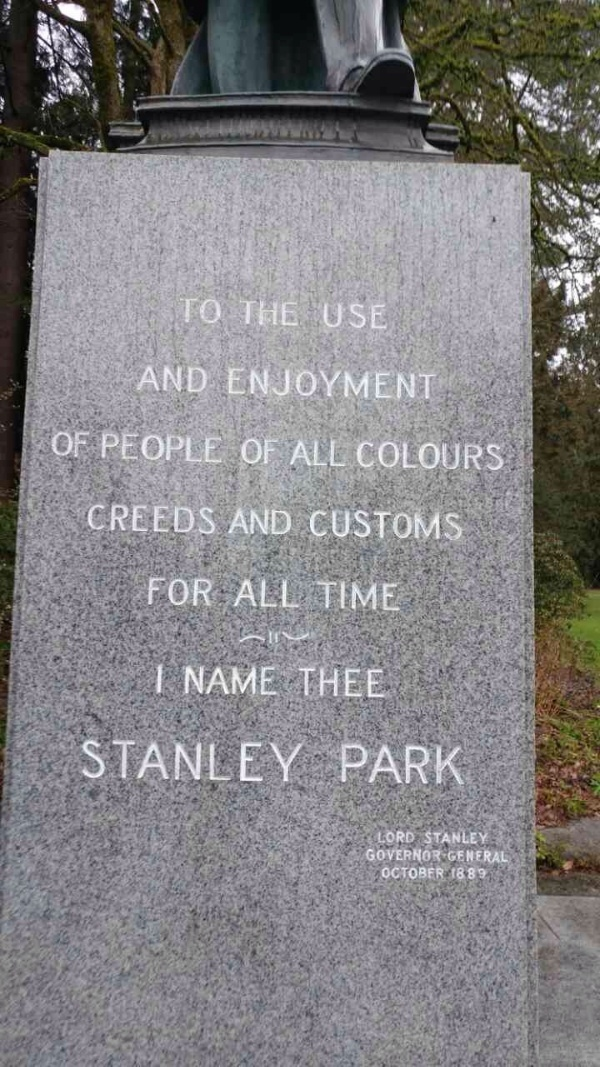text: (81, 738, 96, 783), (97, 738, 112, 783), (113, 738, 128, 783), (129, 738, 144, 783), (145, 738, 160, 783), (161, 738, 176, 783), (177, 738, 192, 783), (193, 738, 208, 783), (209, 738, 224, 783), (225, 738, 240, 783), (241, 738, 256, 783), (257, 738, 272, 783), (273, 738, 288, 783), (289, 738, 304, 783), (353, 742, 368, 787), (369, 742, 384, 787), (385, 742, 400, 787), (401, 742, 416, 787), (417, 742, 432, 787), (433, 742, 448, 787), (449, 742, 464, 787), (209, 432, 225, 466), (449, 508, 465, 542), (340, 742, 352, 787), (241, 366, 256, 401), (257, 366, 272, 401), (273, 366, 288, 401), (289, 366, 304, 401), (305, 366, 320, 401), (321, 366, 336, 401), (337, 366, 352, 401), (353, 366, 368, 401), (369, 366, 384, 401), (385, 366, 400, 401), (401, 366, 416, 401), (417, 366, 432, 401), (113, 432, 128, 466), (129, 432, 144, 466), (145, 432, 160, 466), (161, 432, 176, 466), (177, 432, 192, 466), (193, 432, 208, 466), (321, 508, 336, 542), (337, 508, 352, 542), (353, 508, 368, 542), (369, 508, 384, 542), (385, 508, 400, 542), (401, 508, 416, 542), (417, 508, 432, 542), (433, 508, 448, 542), (321, 579, 336, 613), (337, 579, 352, 613), (353, 579, 368, 613), (369, 579, 384, 613), (385, 579, 400, 613), (193, 664, 208, 698), (209, 664, 224, 698), (225, 664, 240, 698), (241, 664, 256, 698), (257, 664, 272, 698), (97, 503, 112, 536), (113, 503, 128, 536), (129, 503, 144, 536), (145, 503, 160, 536), (161, 503, 176, 536), (177, 503, 192, 536), (193, 503, 208, 536), (241, 577, 256, 610), (257, 577, 272, 610), (273, 577, 288, 610), (305, 667, 320, 699), (321, 667, 336, 699), (337, 667, 352, 699), (353, 667, 368, 699), (369, 667, 384, 699), (241, 507, 256, 538), (257, 507, 272, 538), (273, 507, 288, 538), (161, 577, 176, 608), (177, 577, 192, 608), (193, 577, 208, 608), (193, 365, 209, 394), (227, 366, 240, 401), (241, 298, 256, 328), (257, 298, 272, 328), (273, 298, 288, 328), (321, 301, 336, 331), (337, 301, 352, 331), (353, 301, 368, 331), (369, 301, 384, 331), (305, 438, 320, 468), (321, 438, 336, 468), (369, 441, 384, 471), (385, 441, 400, 471), (401, 441, 416, 471), (417, 441, 432, 471), (433, 441, 448, 471), (449, 441, 464, 471), (465, 441, 480, 471), (481, 441, 496, 471), (193, 297, 208, 326), (145, 365, 160, 394), (161, 365, 176, 394), (177, 365, 192, 394), (65, 431, 80, 460), (241, 437, 256, 466), (257, 437, 272, 466), (290, 438, 304, 468), (178, 297, 192, 326), (209, 297, 223, 326), (227, 507, 240, 538), (147, 577, 160, 608), (289, 577, 301, 610), (355, 441, 368, 471), (51, 431, 64, 460), (101, 432, 112, 466), (289, 298, 301, 328), (151, 659, 160, 697), (310, 508, 320, 542), (337, 438, 348, 468), (81, 431, 91, 460), (184, 664, 192, 698), (497, 441, 506, 471), (88, 503, 96, 536), (209, 503, 217, 536), (161, 659, 167, 697), (385, 830, 400, 845), (401, 830, 416, 845), (433, 831, 448, 846), (449, 831, 464, 846), (465, 831, 480, 846), (369, 848, 384, 863), (385, 848, 400, 863), (401, 848, 416, 863), (417, 848, 432, 863), (449, 849, 464, 864), (465, 849, 480, 864), (481, 849, 496, 864), (465, 867, 480, 882), (433, 366, 439, 401), (497, 849, 511, 864), (385, 867, 400, 881), (401, 867, 416, 881), (417, 867, 432, 881), (273, 664, 279, 698), (137, 365, 144, 394), (273, 437, 280, 466), (451, 867, 464, 882), (298, 667, 304, 699), (289, 507, 295, 538), (433, 867, 445, 881), (209, 577, 214, 608), (433, 848, 442, 863), (385, 301, 389, 331), (376, 830, 384, 845), (424, 831, 432, 846), (481, 831, 489, 846), (481, 867, 489, 882), (401, 579, 404, 613), (237, 577, 240, 610), (385, 667, 388, 699), (318, 579, 320, 613), (305, 738, 306, 783), (465, 742, 466, 787), (365, 848, 368, 863), (381, 867, 384, 881), (239, 298, 240, 328), (446, 849, 448, 864)
